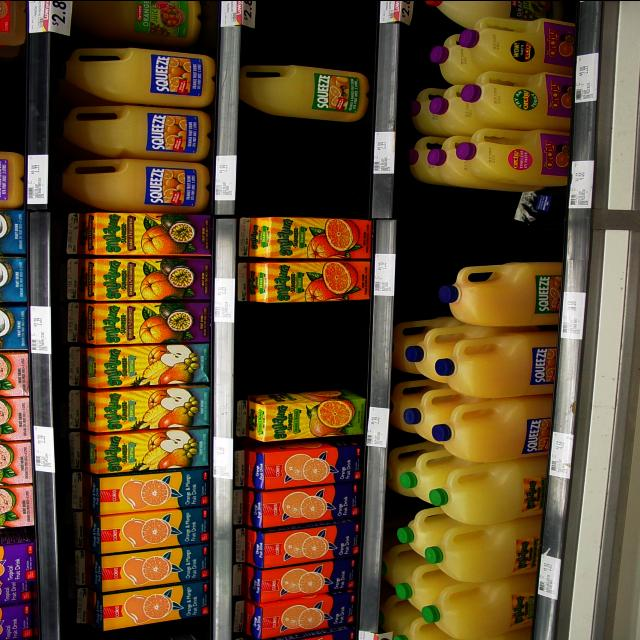empty_space: (257, 129, 371, 210), (255, 308, 357, 384), (411, 189, 512, 265), (263, 0, 391, 54), (89, 625, 198, 640)
